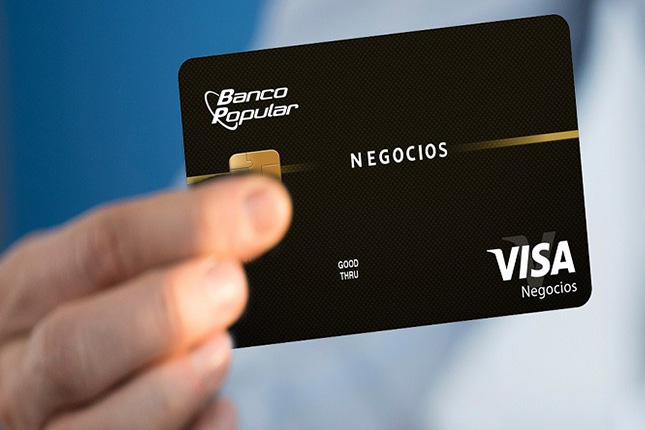tarjeta: (179, 13, 592, 350)
